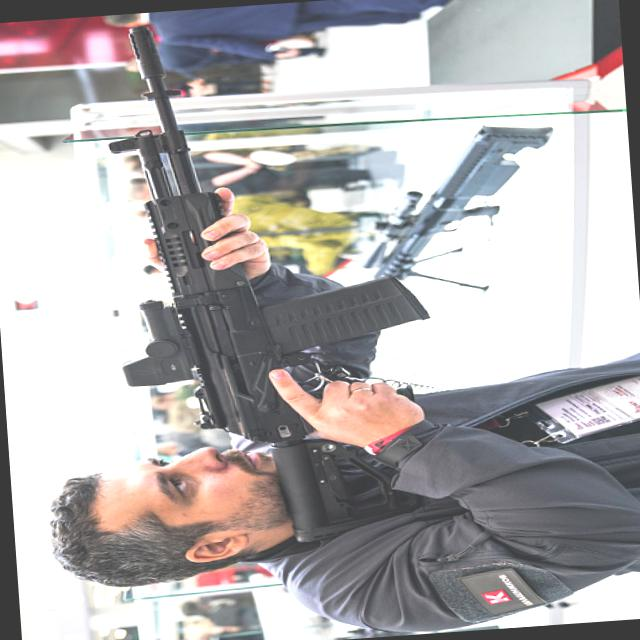long weapon: (70, 10, 430, 452)
